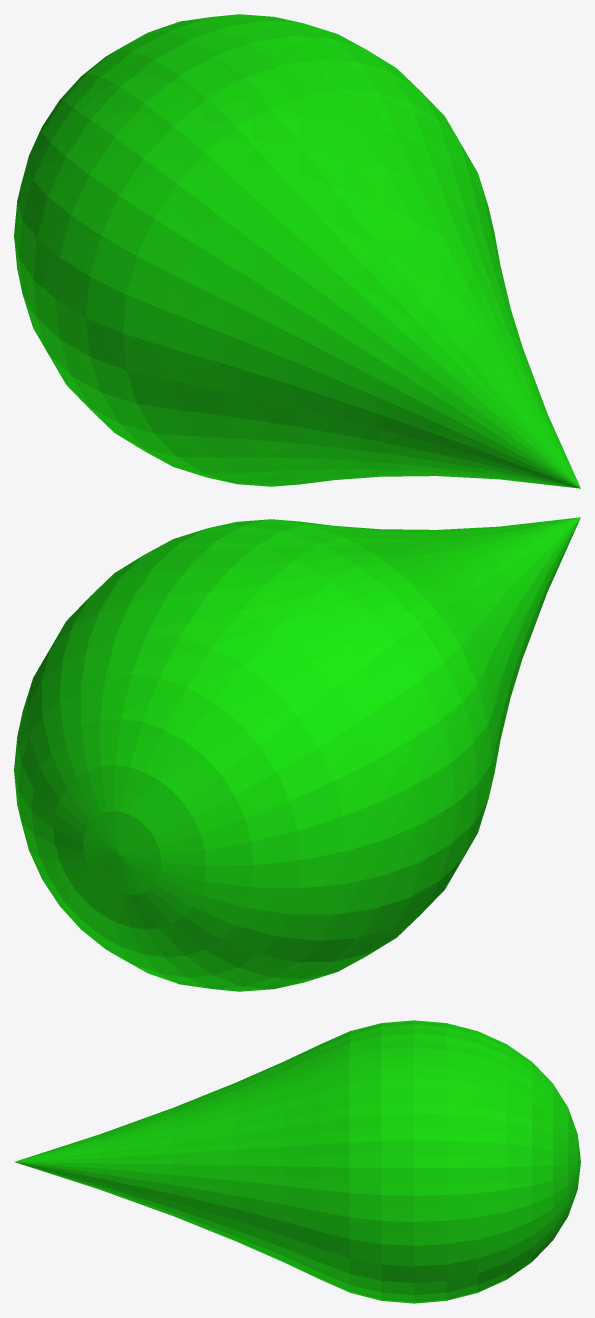
File: slimeBall.fbx
3 renders of one model, top to bottom at view 1: azimuth 30°, elevation 25°; view 2: azimuth 150°, elevation 25°; view 3: azimuth 270°, elevation 25°, orthographic. The views are drawn at different scales.
Parts seen in each view (by area): view 1: Sphere; view 2: Sphere; view 3: Sphere.
Part boxes in pixels (box(x1,y1,x2,y2)): Sphere: box(14, 14, 580, 488); Sphere: box(14, 517, 580, 991); Sphere: box(15, 1020, 580, 1303).
Bounding box in the file's own units: 50 × 50 × 100.
